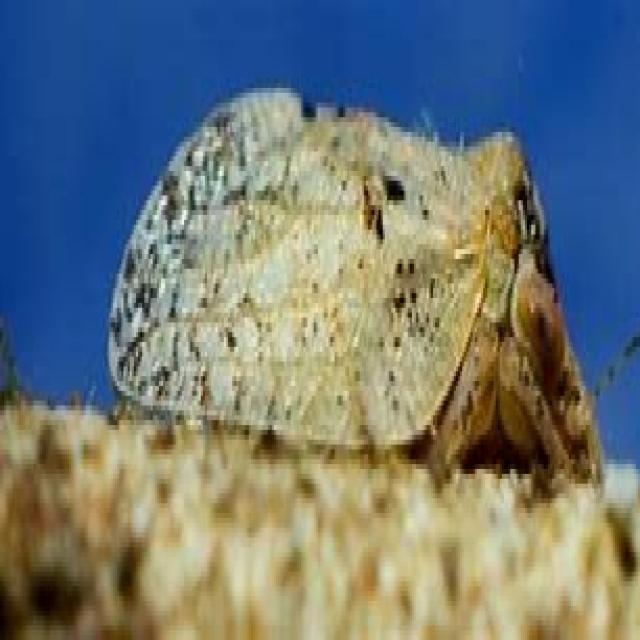Psyllid: (106, 88, 598, 488)
